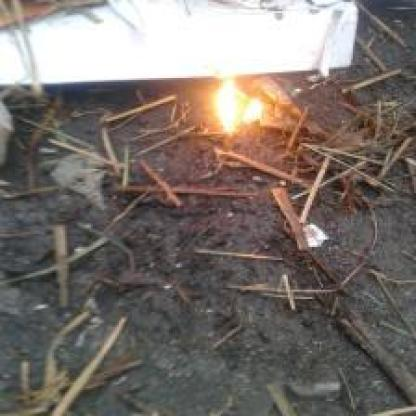Fire: (194, 67, 285, 150)
